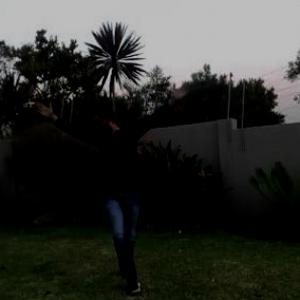takeoff: (33, 87, 185, 290)
